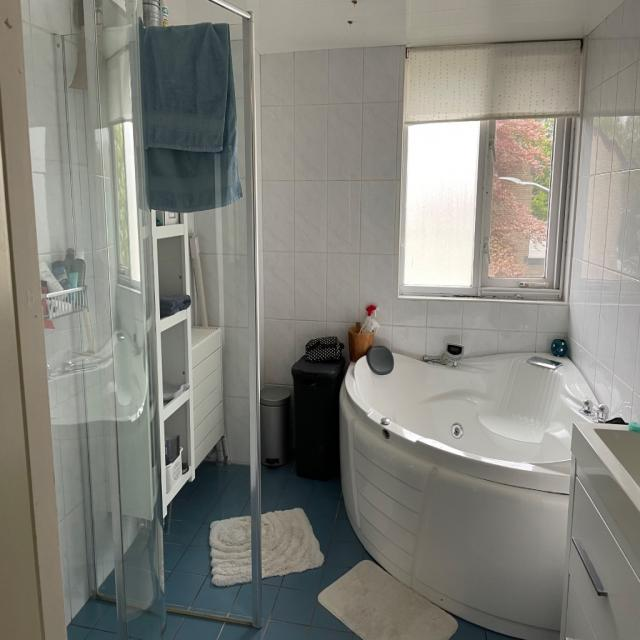bath: (346, 341, 610, 496)
douche: (0, 0, 263, 640)
wastafel: (559, 455, 639, 640), (572, 419, 640, 512)
